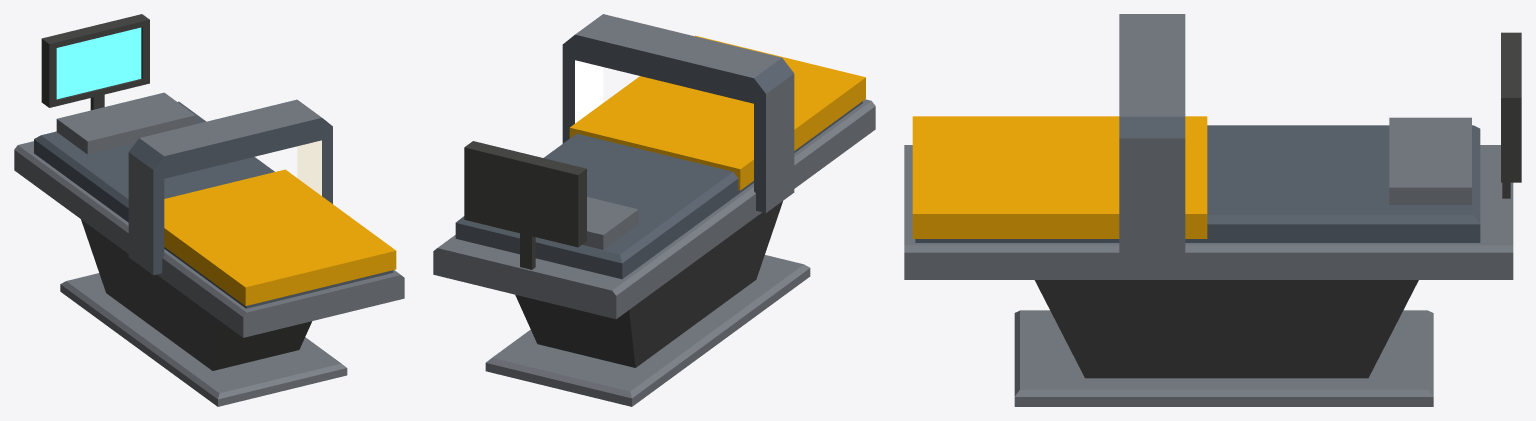
File: med_bed.glb
3 renders of one model, left to right at view 1: azimuth 30°, elevation 25°; view 2: azimuth 150°, elevation 25°; view 3: azimuth 270°, elevation 25°, orthographic. The views are drawn at different scales.
Parts seen in each view (by area): view 1: med_bed; view 2: med_bed; view 3: med_bed.
Boxes of the visible parts, left/top/right/bottom form: med_bed: left=14, top=14, right=404, bottom=406; med_bed: left=433, top=14, right=875, bottom=406; med_bed: left=904, top=14, right=1521, bottom=406.
Size of the model in its own units: 1 by 1.2 by 2.24.
